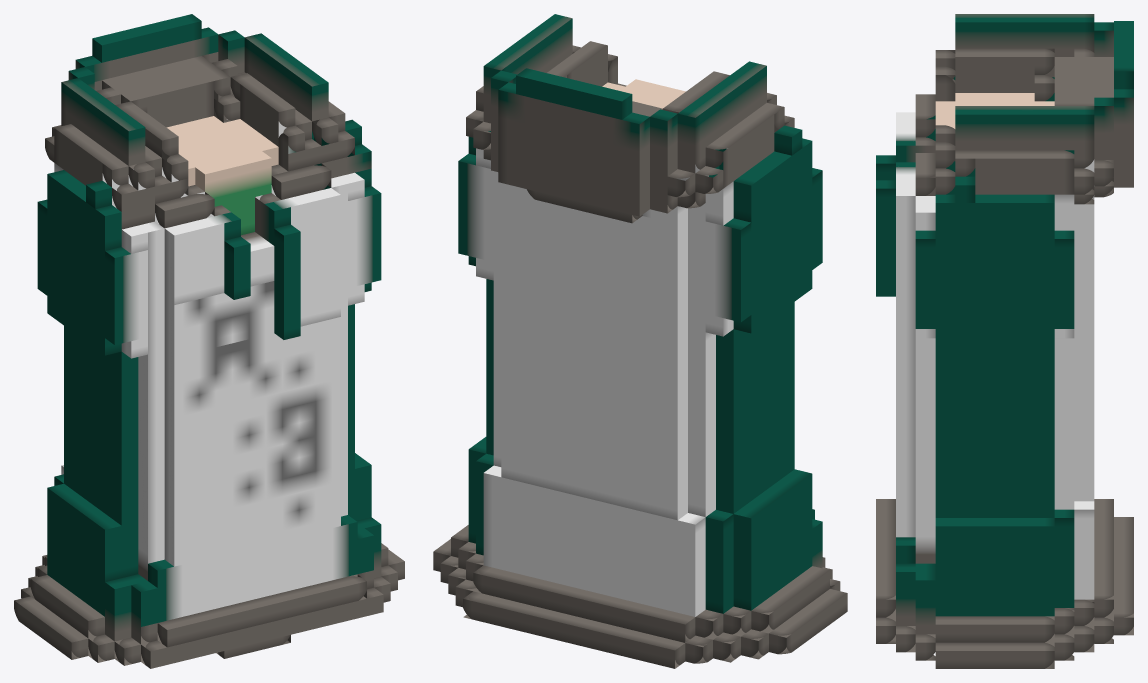
Rendered from BLUZA_DES.dae.
The picture shows the model from 3 angles, left to right: view 1: azimuth 30°, elevation 25°; view 2: azimuth 150°, elevation 25°; view 3: azimuth 270°, elevation 25°; orthographic projection. The views are drawn at different scales.
Visible parts, largest first — view 1: Content; view 2: Content; view 3: Content.
Part boxes in pixels (x1=…): Content: x1=14, y1=14, x2=404, y2=668; Content: x1=433, y1=14, x2=847, y2=668; Content: x1=876, y1=14, x2=1133, y2=668.
Bounding box in the file's own units: 20 × 31 × 13.
Materials: 1 (1 with a texture image).
